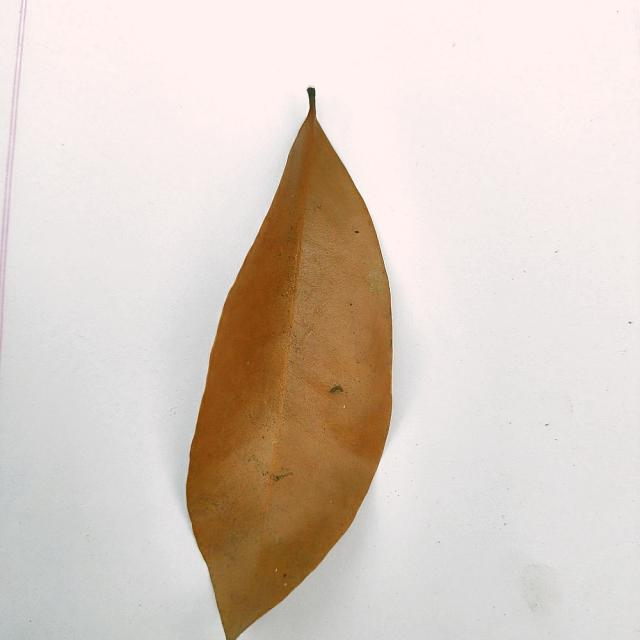Dry_Leaf-Lychee: (185, 93, 394, 639)
